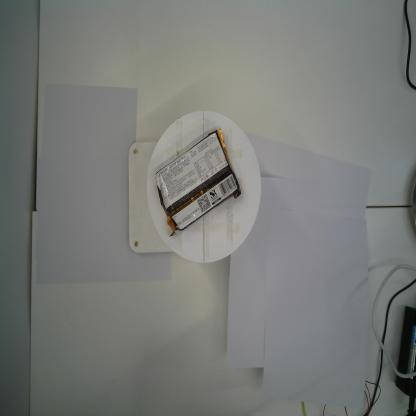Dessert: (152, 126, 244, 239)
